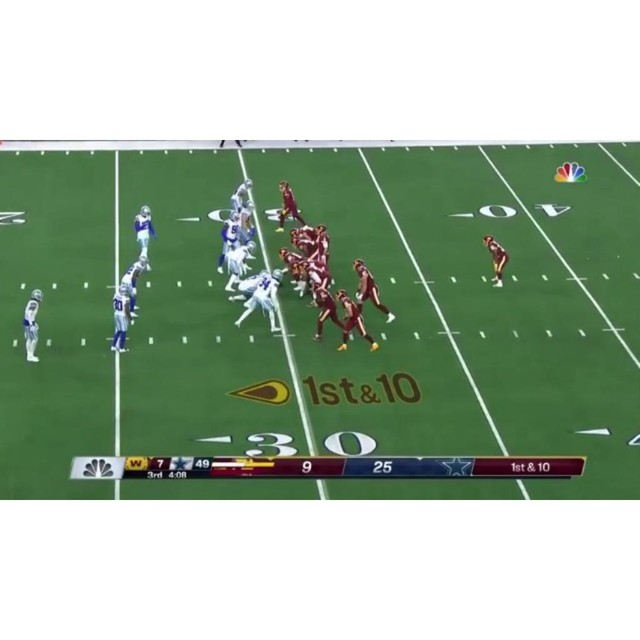american-football-player: (232, 271, 282, 332), (353, 259, 396, 322), (335, 289, 378, 352), (307, 279, 344, 341), (119, 256, 151, 320), (223, 240, 257, 292), (20, 289, 44, 362), (216, 212, 244, 273), (275, 180, 307, 232), (132, 205, 158, 266), (109, 285, 132, 352), (277, 247, 308, 294), (482, 234, 508, 289), (289, 231, 323, 263), (233, 200, 256, 246), (302, 260, 333, 294), (229, 178, 254, 216)
